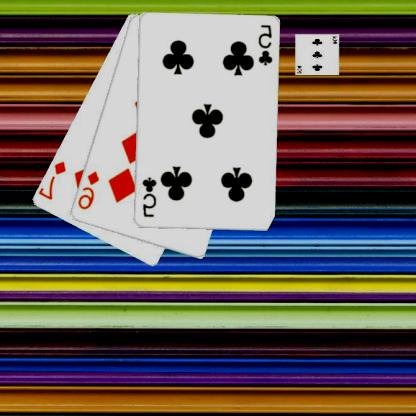5C: (256, 22, 275, 68), (141, 175, 160, 219)
7D: (38, 158, 69, 202)
9D: (76, 168, 102, 211)
